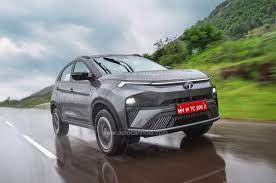Tata Nexon: (48, 54, 221, 158)
